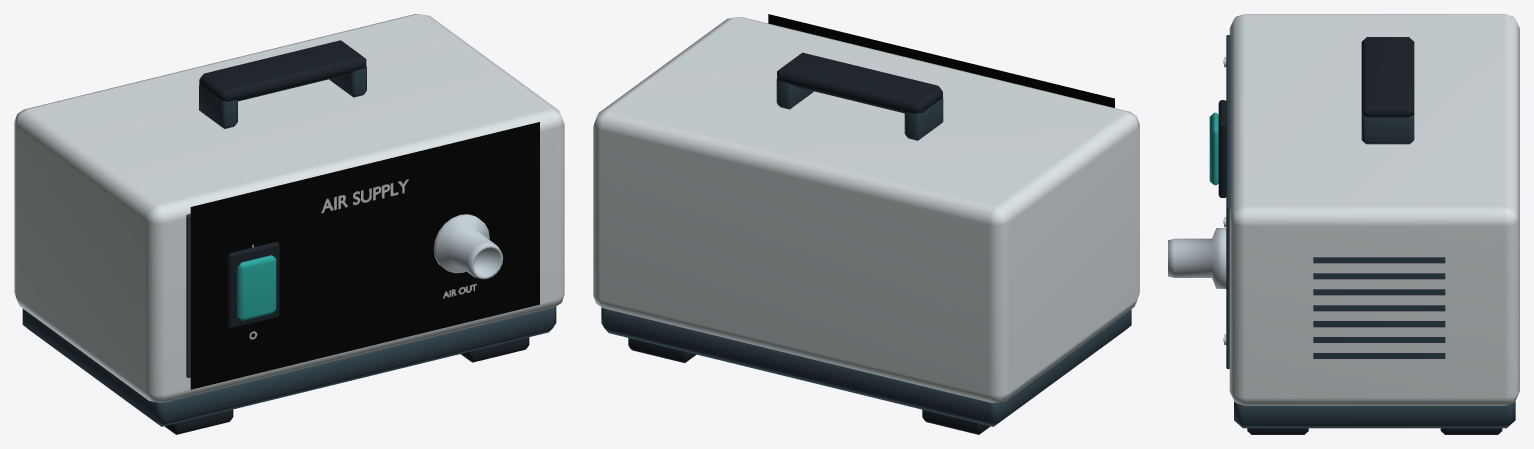
File: VLAB_air_blower.fbx
The picture shows the model from 3 angles, left to right: view 1: azimuth 30°, elevation 25°; view 2: azimuth 150°, elevation 25°; view 3: azimuth 270°, elevation 25°; orthographic projection.
Visible parts, largest first — view 1: VLAB_air_blower_Housing_VIS, VLAB_air_blower_PanelTypography_VIS, VLAB_air_blower_Base_VIS, VLAB_air_blower_Handle_VIS, VLAB_air_blower_Outlet_VIS, VLAB_air_blower_Switch_VIS, VLAB_air_blower_SwitchBezel_VIS, VLAB_air_blower_HandleSupport_VIS, VLAB_air_blower_FrontPanel_VIS, VLAB_air_blower_Foot_VIS, VLAB_air_blower_Foot3_VIS, VLAB_air_blower_HandleSupport2_VIS; view 2: VLAB_air_blower_Housing_VIS, VLAB_air_blower_Base_VIS, VLAB_air_blower_Handle_VIS, VLAB_air_blower_PanelTypography_VIS, VLAB_air_blower_HandleSupport_VIS, VLAB_air_blower_Foot2_VIS, VLAB_air_blower_Foot4_VIS, VLAB_air_blower_HandleSupport2_VIS; view 3: VLAB_air_blower_Housing_VIS, VLAB_air_blower_Base_VIS, VLAB_air_blower_Handle_VIS, VLAB_air_blower_Outlet_VIS, VLAB_air_blower_FrontPanel_VIS, VLAB_air_blower_HandleSupport2_VIS, VLAB_air_blower_VentLouver3_VIS, VLAB_air_blower_VentLouver4_VIS, VLAB_air_blower_VentLouver5_VIS, VLAB_air_blower_VentLouver6_VIS, VLAB_air_blower_VentLouver7_VIS, VLAB_air_blower_SwitchBezel_VIS (+5 smaller).
Part boxes in pixels (left/top/right/bottom): VLAB_air_blower_Housing_VIS: left=14, top=14, right=564, bottom=402; VLAB_air_blower_PanelTypography_VIS: left=190, top=122, right=539, bottom=389; VLAB_air_blower_Base_VIS: left=22, top=307, right=556, bottom=426; VLAB_air_blower_Handle_VIS: left=199, top=40, right=366, bottom=101; VLAB_air_blower_Outlet_VIS: left=433, top=214, right=502, bottom=279; VLAB_air_blower_Switch_VIS: left=237, top=255, right=276, bottom=320; VLAB_air_blower_SwitchBezel_VIS: left=227, top=242, right=279, bottom=328; VLAB_air_blower_HandleSupport_VIS: left=199, top=85, right=237, bottom=128; VLAB_air_blower_FrontPanel_VIS: left=186, top=214, right=190, bottom=377; VLAB_air_blower_Foot_VIS: left=164, top=409, right=233, bottom=434; VLAB_air_blower_Foot3_VIS: left=461, top=337, right=529, bottom=362; VLAB_air_blower_HandleSupport2_VIS: left=329, top=66, right=366, bottom=97; VLAB_air_blower_Housing_VIS: left=593, top=17, right=1139, bottom=402; VLAB_air_blower_Base_VIS: left=601, top=307, right=1131, bottom=426; VLAB_air_blower_Handle_VIS: left=777, top=52, right=942, bottom=113; VLAB_air_blower_PanelTypography_VIS: left=768, top=14, right=1114, bottom=107; VLAB_air_blower_HandleSupport_VIS: left=904, top=98, right=943, bottom=140; VLAB_air_blower_Foot2_VIS: left=922, top=409, right=990, bottom=434; VLAB_air_blower_Foot4_VIS: left=628, top=338, right=696, bottom=362; VLAB_air_blower_HandleSupport2_VIS: left=776, top=78, right=813, bottom=109; VLAB_air_blower_Housing_VIS: left=1229, top=14, right=1519, bottom=405; VLAB_air_blower_Base_VIS: left=1234, top=401, right=1515, bottom=428; VLAB_air_blower_Handle_VIS: left=1361, top=37, right=1414, bottom=117; VLAB_air_blower_Outlet_VIS: left=1168, top=228, right=1226, bottom=288; VLAB_air_blower_FrontPanel_VIS: left=1226, top=35, right=1230, bottom=368; VLAB_air_blower_HandleSupport2_VIS: left=1361, top=115, right=1414, bottom=144; VLAB_air_blower_VentLouver3_VIS: left=1313, top=321, right=1445, bottom=327; VLAB_air_blower_VentLouver4_VIS: left=1313, top=305, right=1445, bottom=311; VLAB_air_blower_VentLouver5_VIS: left=1313, top=289, right=1445, bottom=295; VLAB_air_blower_VentLouver6_VIS: left=1313, top=273, right=1445, bottom=279; VLAB_air_blower_VentLouver7_VIS: left=1313, top=257, right=1445, bottom=263; VLAB_air_blower_SwitchBezel_VIS: left=1218, top=100, right=1226, bottom=197.
Size of the model in its own units: 0.2201 by 0.14 by 0.16.
